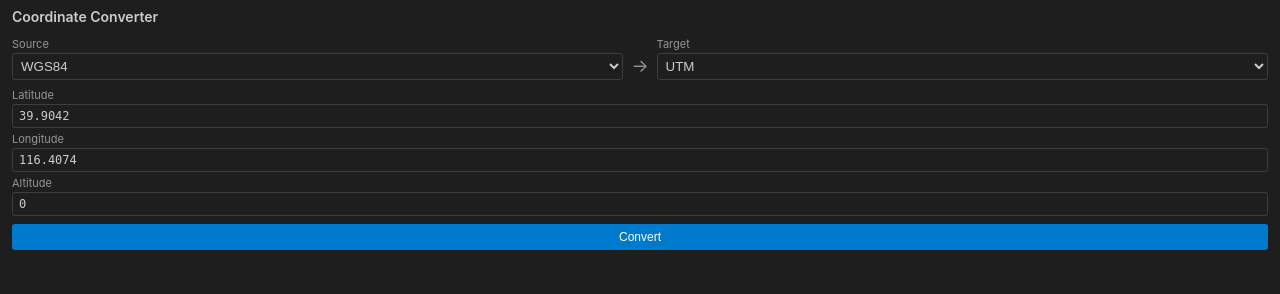
GisToolsPanel › shows unsupported-conversion error for MGRS → UTM
The image size is (1280, 294).
Select "MGRS" in the dropdown labelled "Source" at (318, 66), box left=12, top=53, right=623, bottom=80
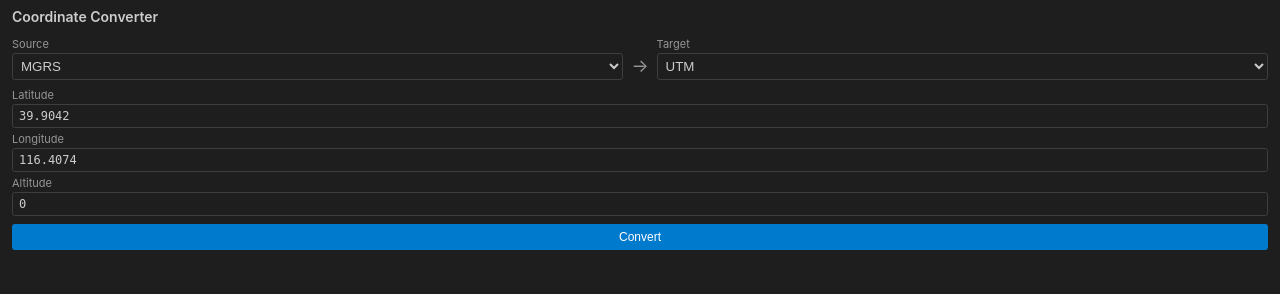
Select "UTM" in the dropdown labelled "Target" at (962, 66), box left=657, top=53, right=1268, bottom=80
Click the button "Convert" at (640, 237), box left=12, top=224, right=1268, bottom=250
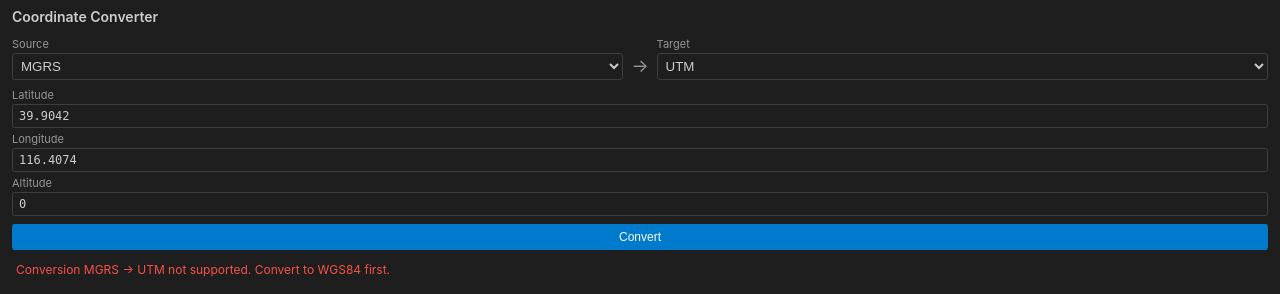
Now the text "Conversion MGRS → UTM not supported. Convert to WGS84 first." is shown, box left=16, top=262, right=390, bottom=277
